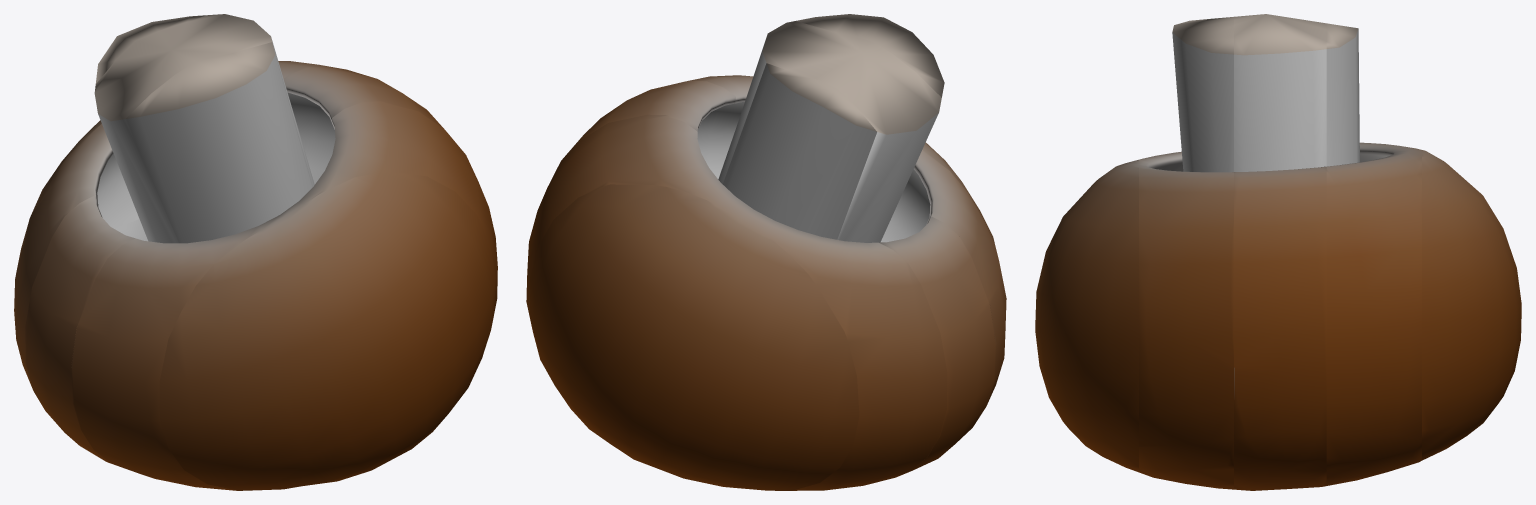
File: mashroom.fbx
3 renders of one model, left to right at view 1: azimuth 30°, elevation 25°; view 2: azimuth 150°, elevation 25°; view 3: azimuth 270°, elevation 25°, orthographic.
Visible parts, largest first — view 1: Champignon; view 2: Champignon; view 3: Champignon.
Boxes of the visible parts, x1,y1,x2,y2 form: Champignon: [14, 14, 497, 490]; Champignon: [526, 14, 1006, 490]; Champignon: [1035, 14, 1521, 490].
Bounding box in the file's own units: 375 × 347 × 378.
